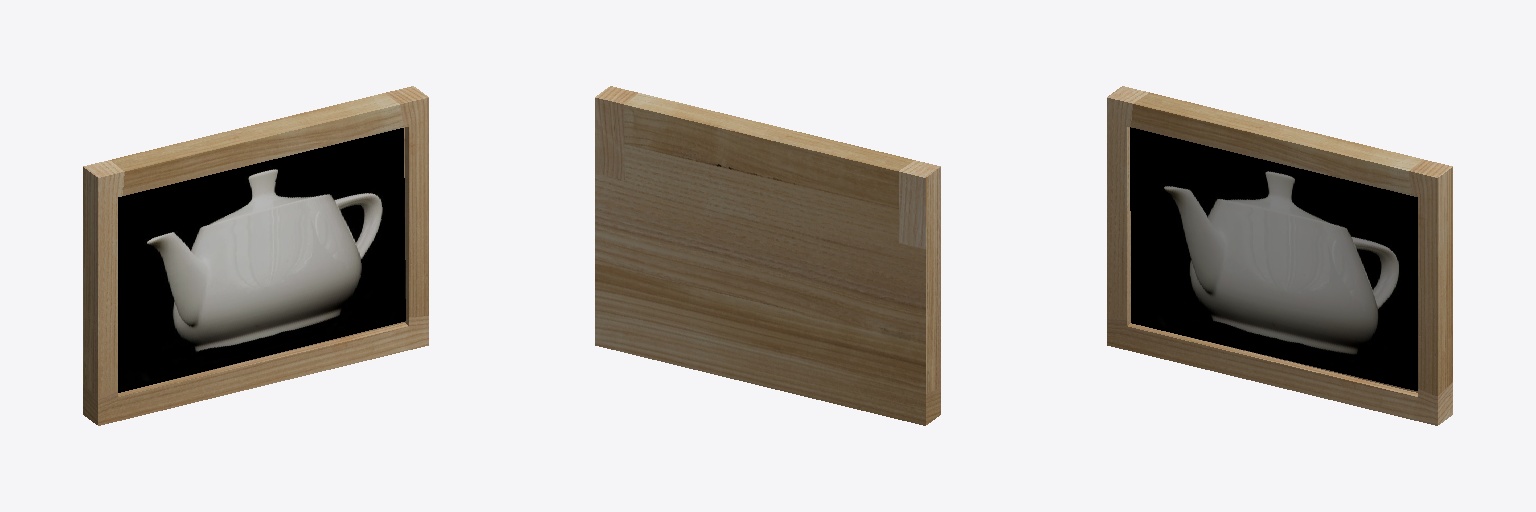
3 renders of one model, left to right at view 1: azimuth 30°, elevation 25°; view 2: azimuth 150°, elevation 25°; view 3: azimuth 330°, elevation 25°, orthographic.
Visible parts, largest first — view 1: pCube1; view 2: pCube1; view 3: pCube1.
Part boxes in pixels (x1,y1,x2,y2): pCube1: (83,86,428,425); pCube1: (595,86,940,425); pCube1: (1107,86,1452,425).
Size of the model in its own units: 6.85 by 4.9 by 0.5634.
1 materials, 1 textured.